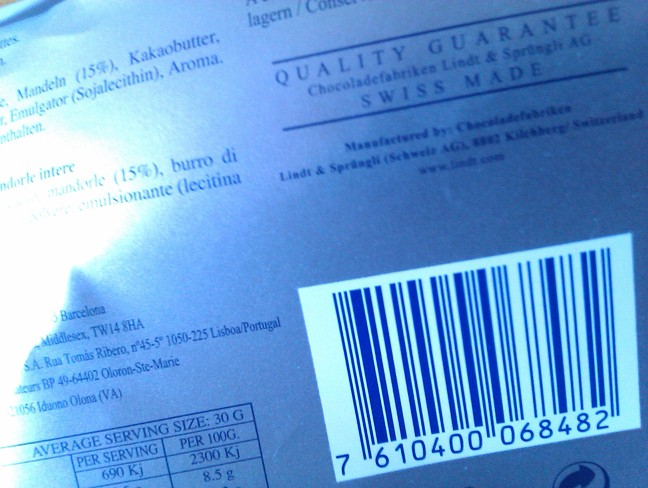barcode: (304, 238, 633, 467)
